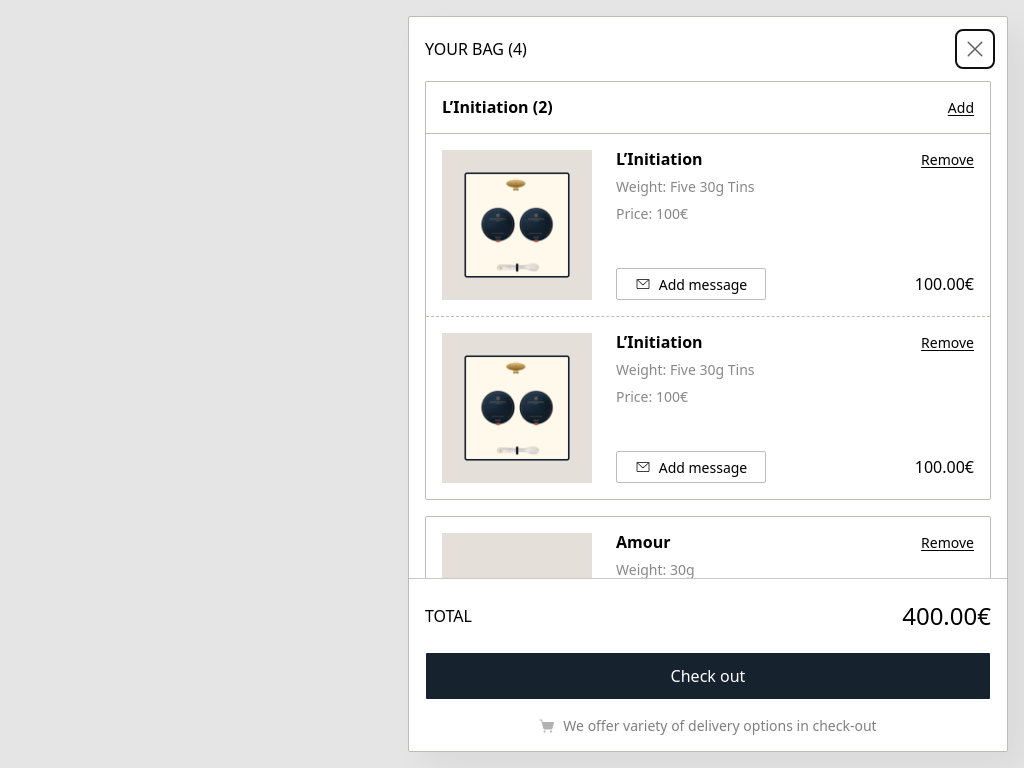
Test: CartDrawer › saves a personal gift message back onto the unit after confirmation
The width and height of the screenshot is (1024, 768).
Click the 1st button "Add message": (691, 284) [616,268,766,300]
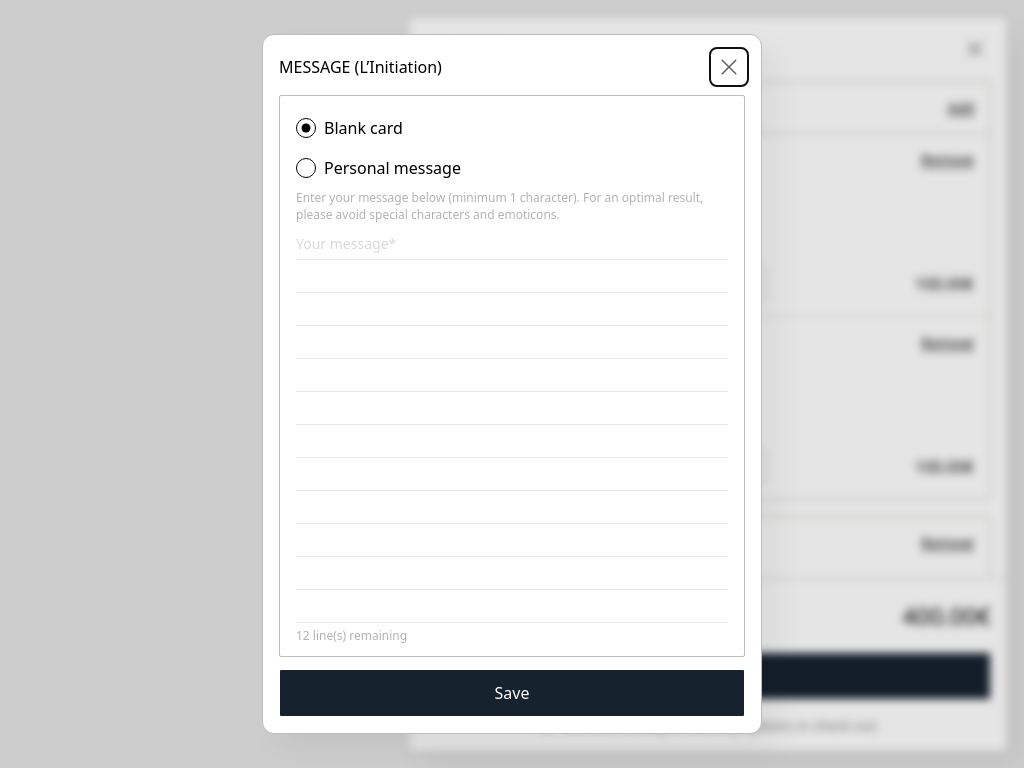
Click the radio button named "Personal message" next to "Personal message": (306, 168) [296,158,316,178]
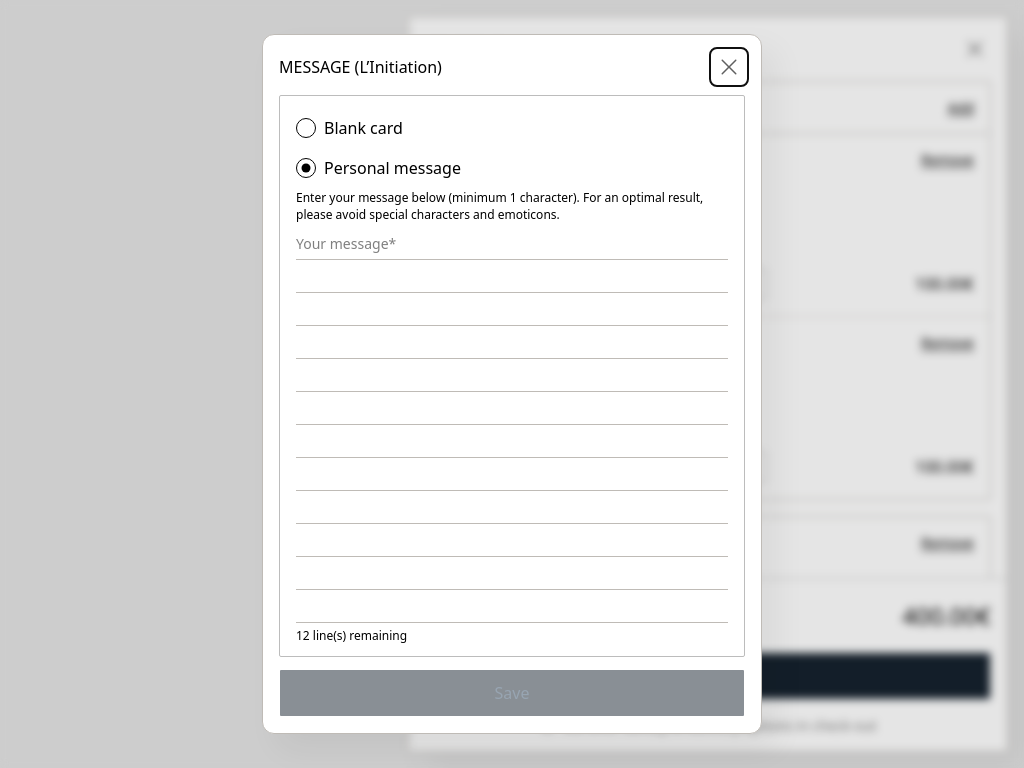
In the text box labelled "Your message*": (512, 424) [296,226,728,622], type "Bonne fête"
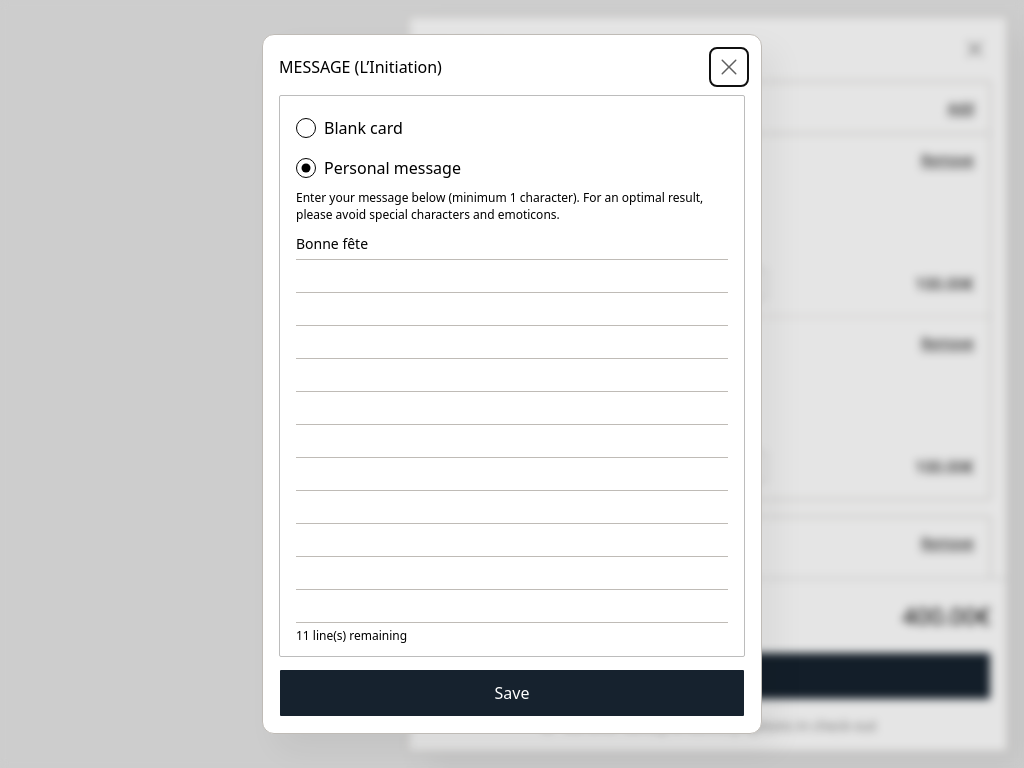
Click the button "Save": (512, 693) [279,669,745,717]
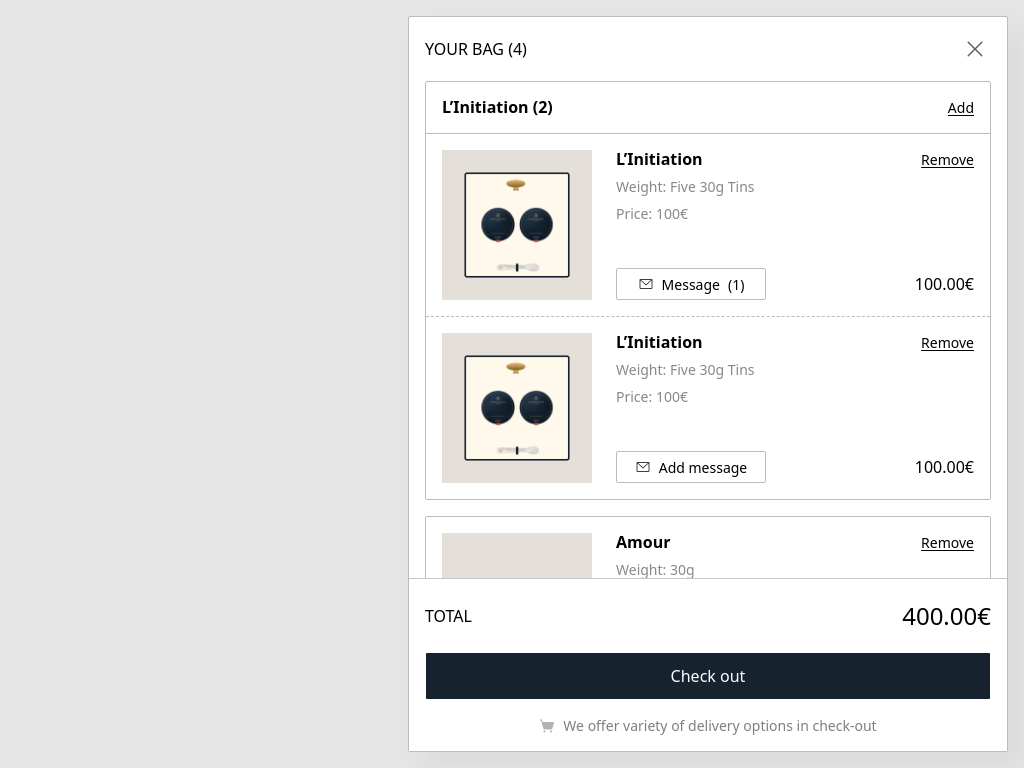
expect the number of buttons "Add message" is 1: met, box [616,451,766,483]
expect the button "Message (1)" is shown: met, box [616,268,766,300]
